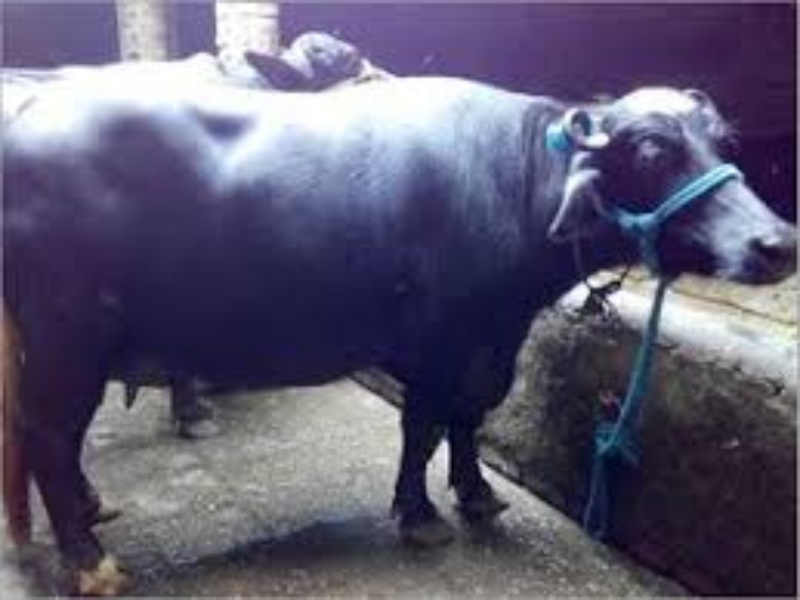buffalo: (19, 49, 785, 525)
